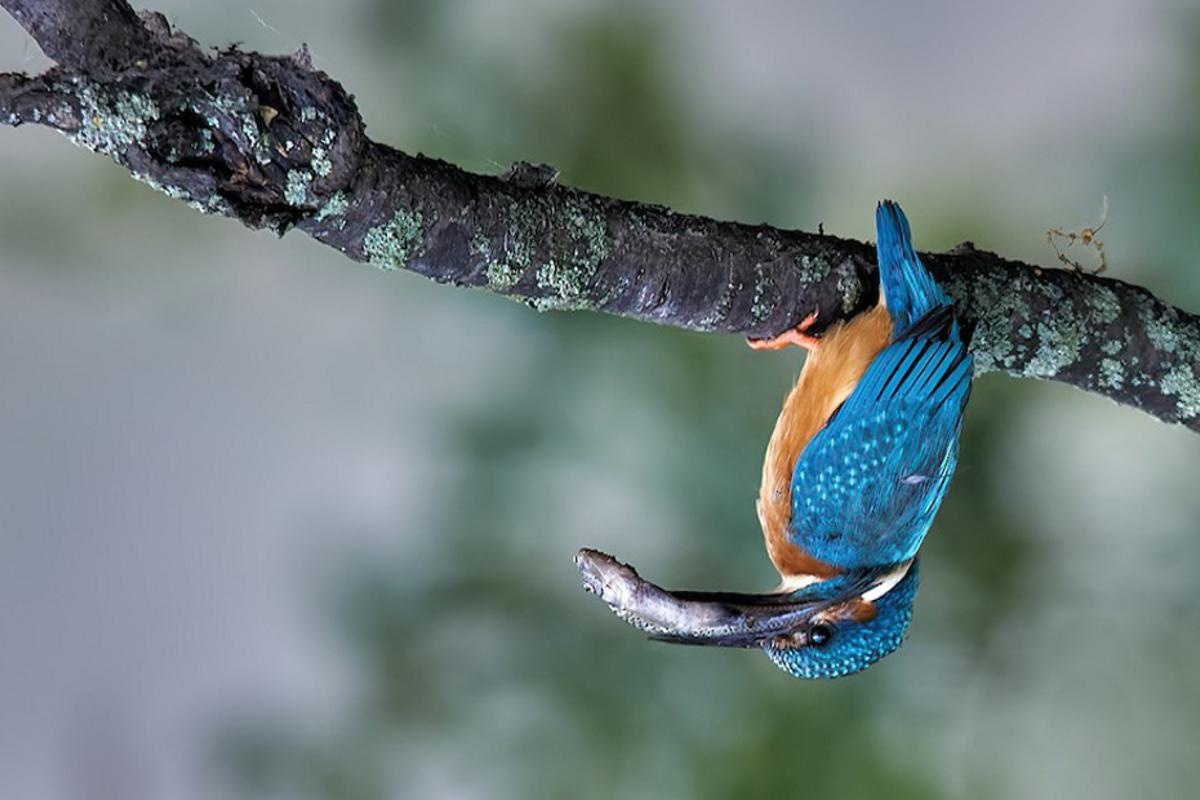kingfisher: (617, 225, 993, 728)
